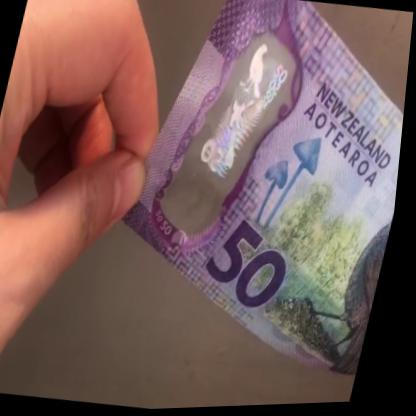50B: (179, 34, 297, 230)
